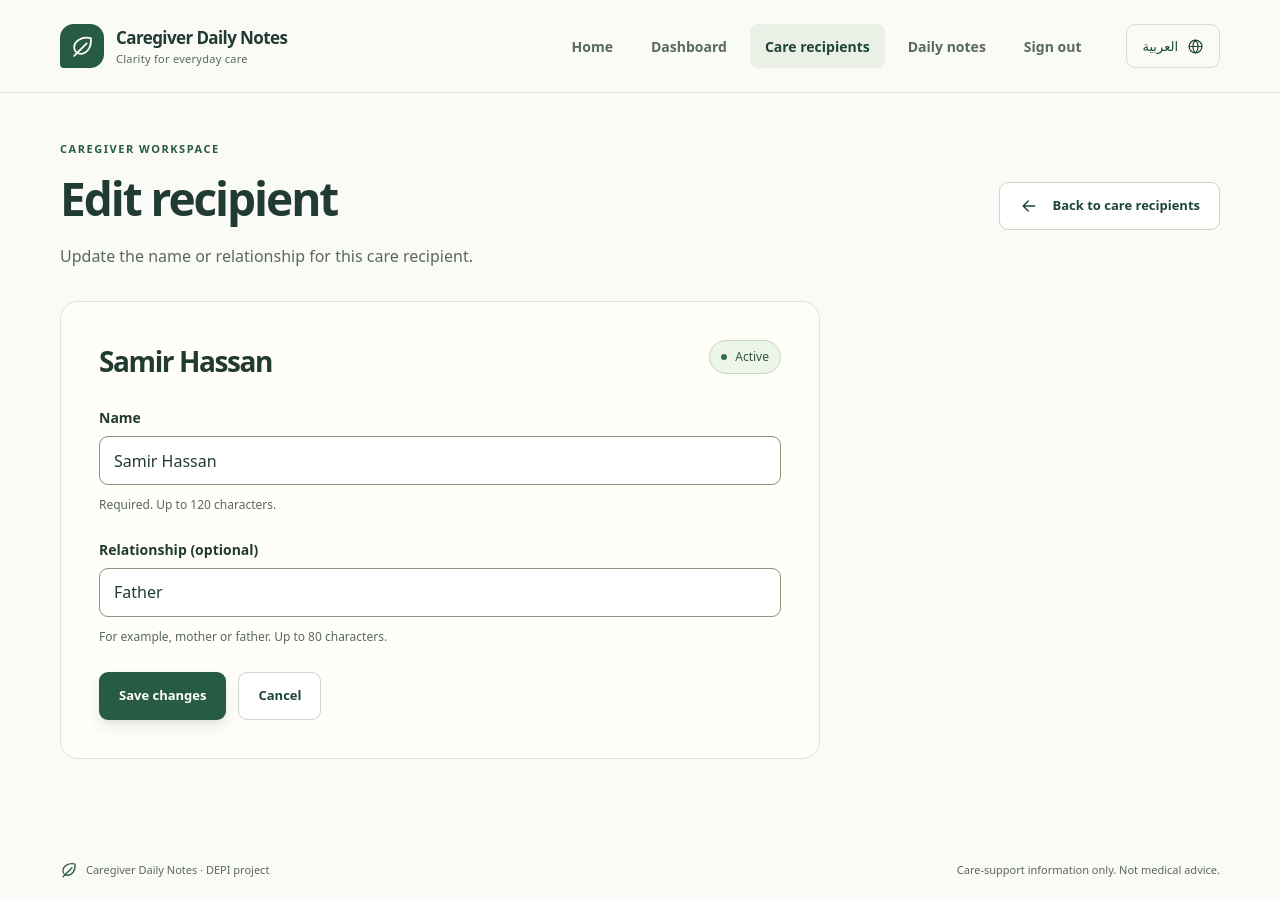
Test: care recipients screens › edits current data with PUT, including removing the optional relationship
Replace the text in the field labelled "Name" with "Samir Updated" at (440,461), box [99, 436, 781, 485]
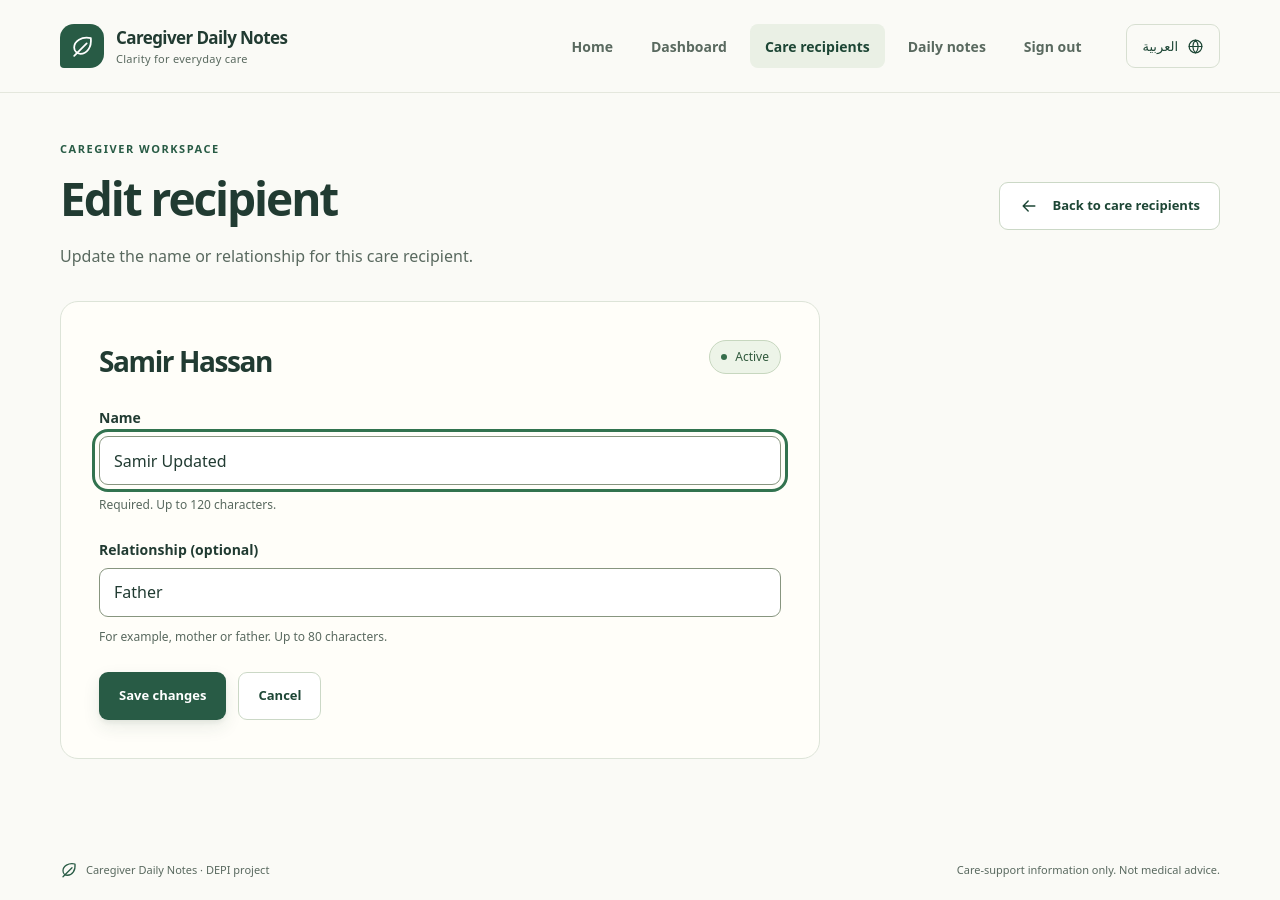
Clear the field labelled "Relationship (optional)" at (440,592), box [99, 568, 781, 617]
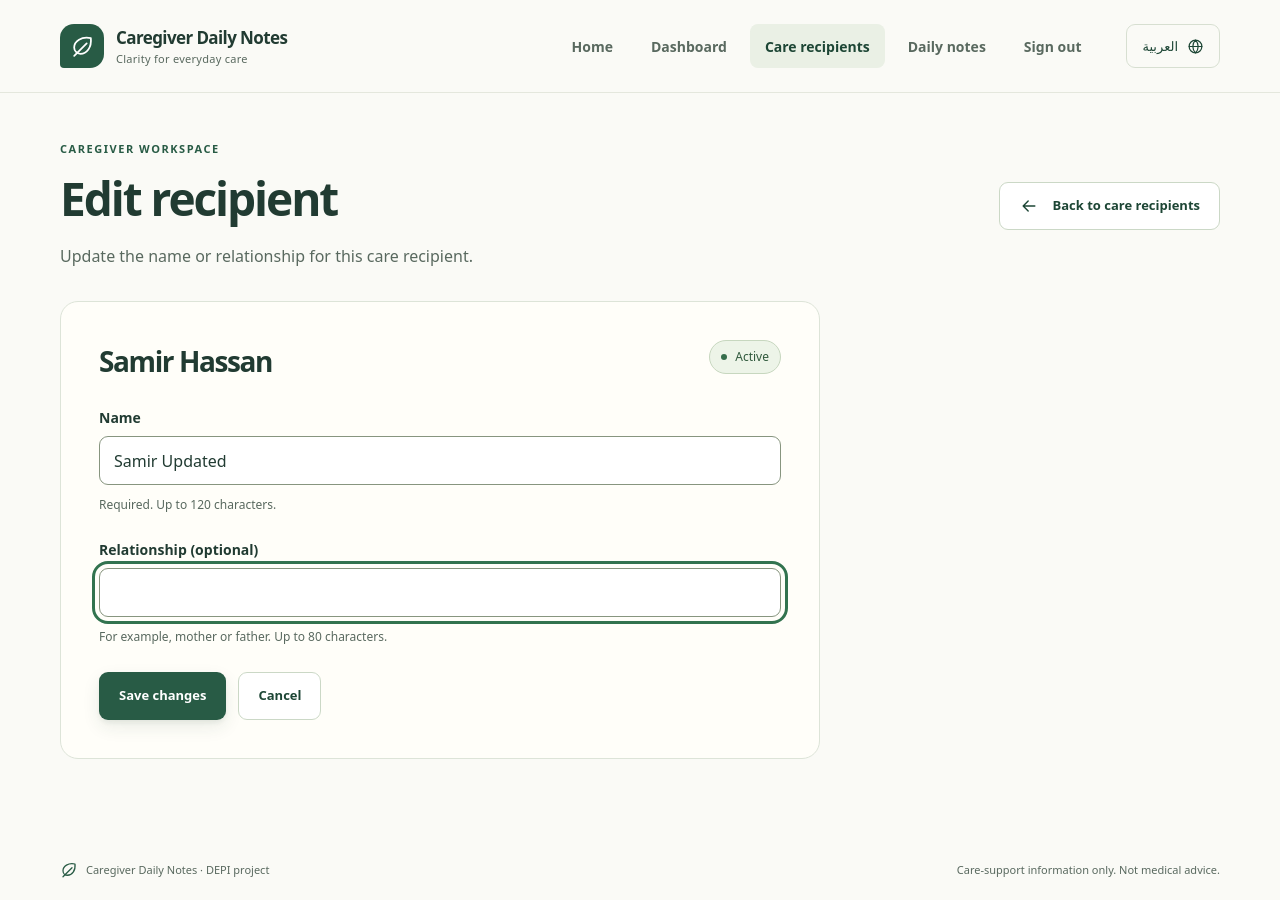
Click the button "Save changes" at (163,696), box [99, 672, 226, 720]
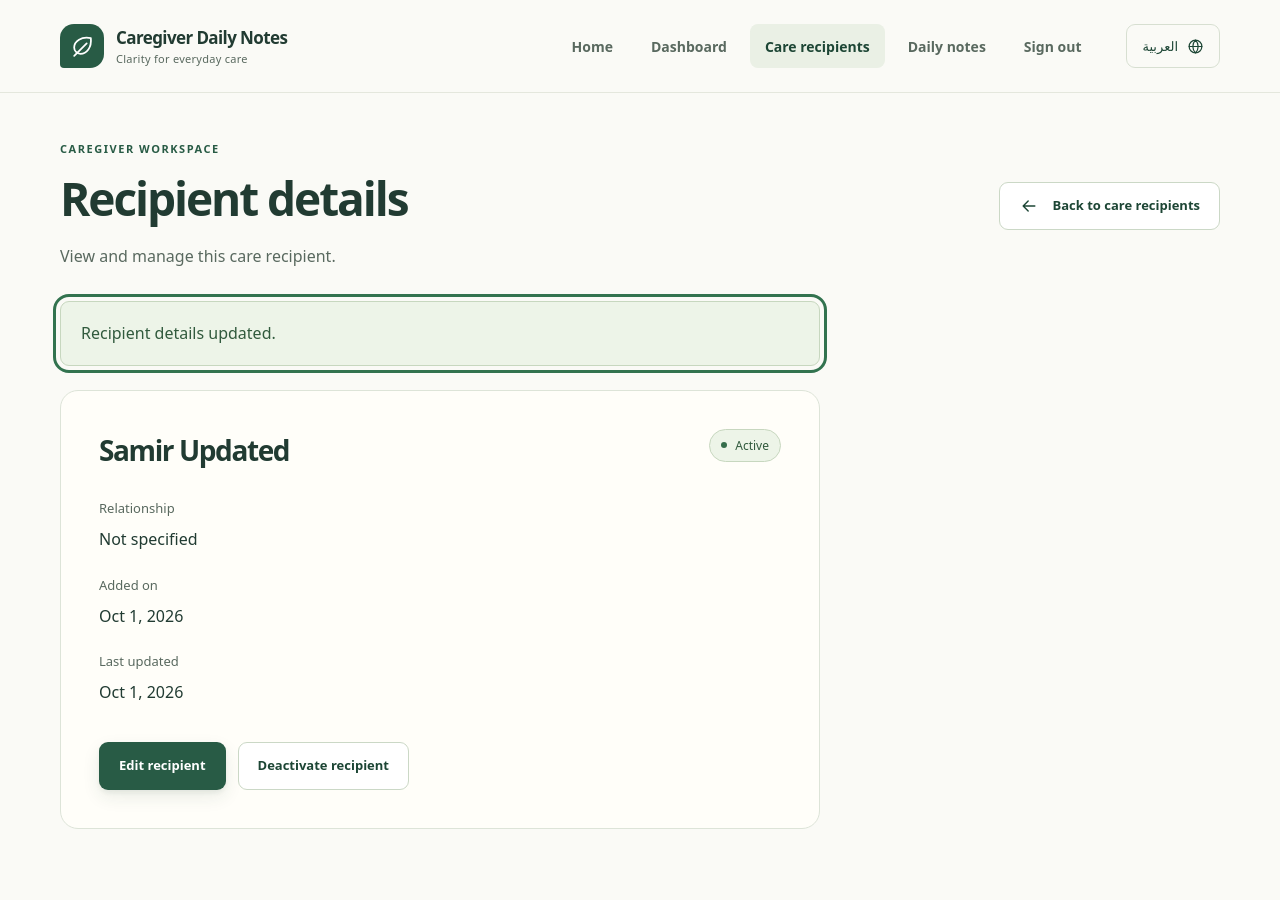
Check: the text "Recipient details updated." is shown, box [60, 301, 820, 366]
Check: the heading "Samir Updated" is shown, box [99, 429, 289, 471]
